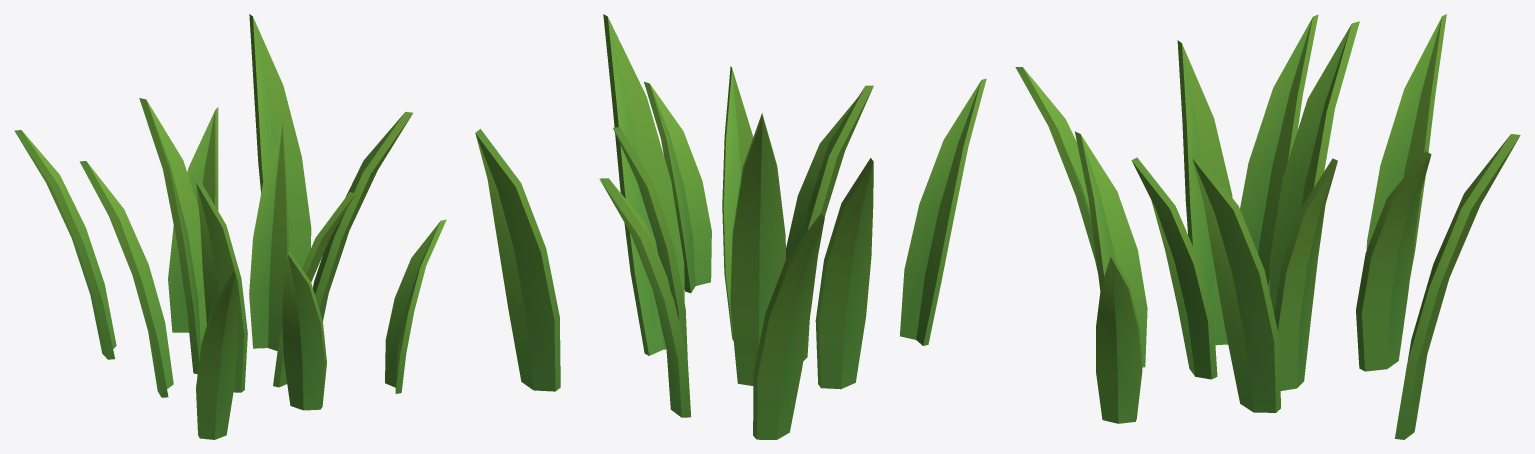
File: gplant_grass_d.glb
3 views of the same model, side by side, from view 1: azimuth 30°, elevation 25°; view 2: azimuth 150°, elevation 25°; view 3: azimuth 270°, elevation 25° (orthographic). The views are drawn at different scales.
Visible parts, largest first — view 1: model; view 2: model; view 3: model.
Boxes of the visible parts, x1,y1,x2,y2 form: model: (14,14,446,439); model: (475,14,986,439); model: (1015,14,1520,439).
Size of the model in its own units: 1.1 by 0.9352 by 1.37.
1 material, 1 textured.
